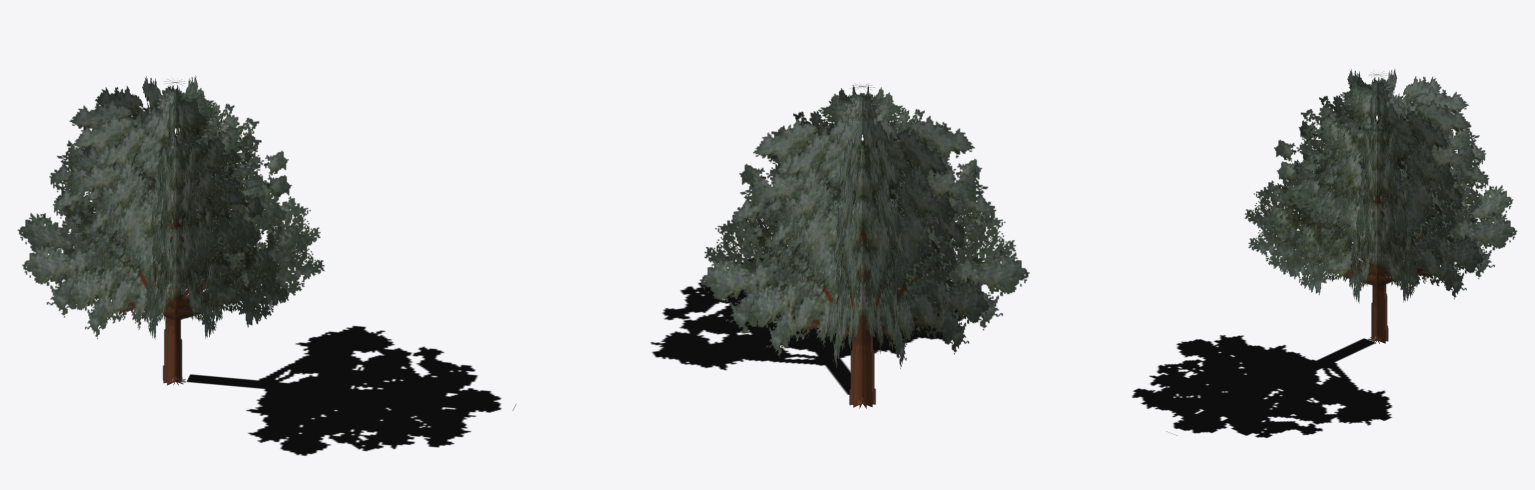
Rendered from treeLP2.glb.
The picture shows the model from 3 angles, left to right: view 1: azimuth 30°, elevation 25°; view 2: azimuth 150°, elevation 25°; view 3: azimuth 270°, elevation 25°; orthographic projection. The views are drawn at different scales.
Parts seen in each view (by area): view 1: treeP0; view 2: treeP0; view 3: treeP0.
Boxes of the visible parts, x1,y1,x2,y2 form: treeP0: (17, 75, 516, 455); treeP0: (650, 84, 1029, 408); treeP0: (1132, 68, 1517, 437).
Size of the model in its own units: 22.31 by 13.85 by 21.62.
Materials: 2 (2 with a texture image).
